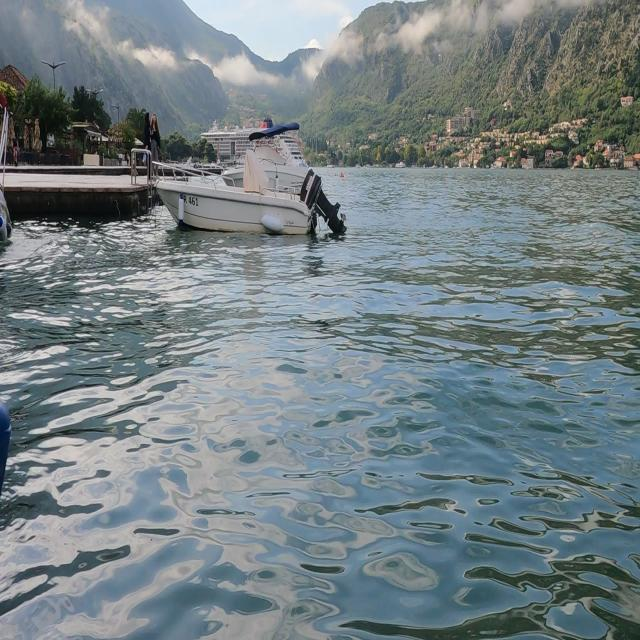boat: (152, 118, 347, 242)
